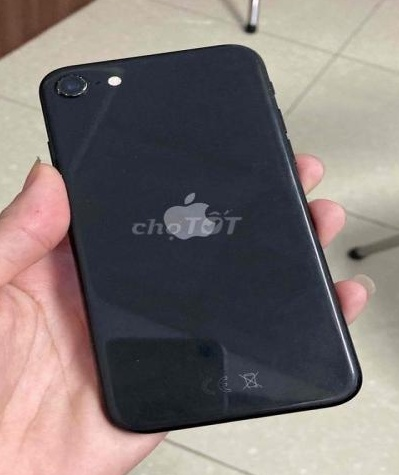scratch: (52, 70, 90, 97)
